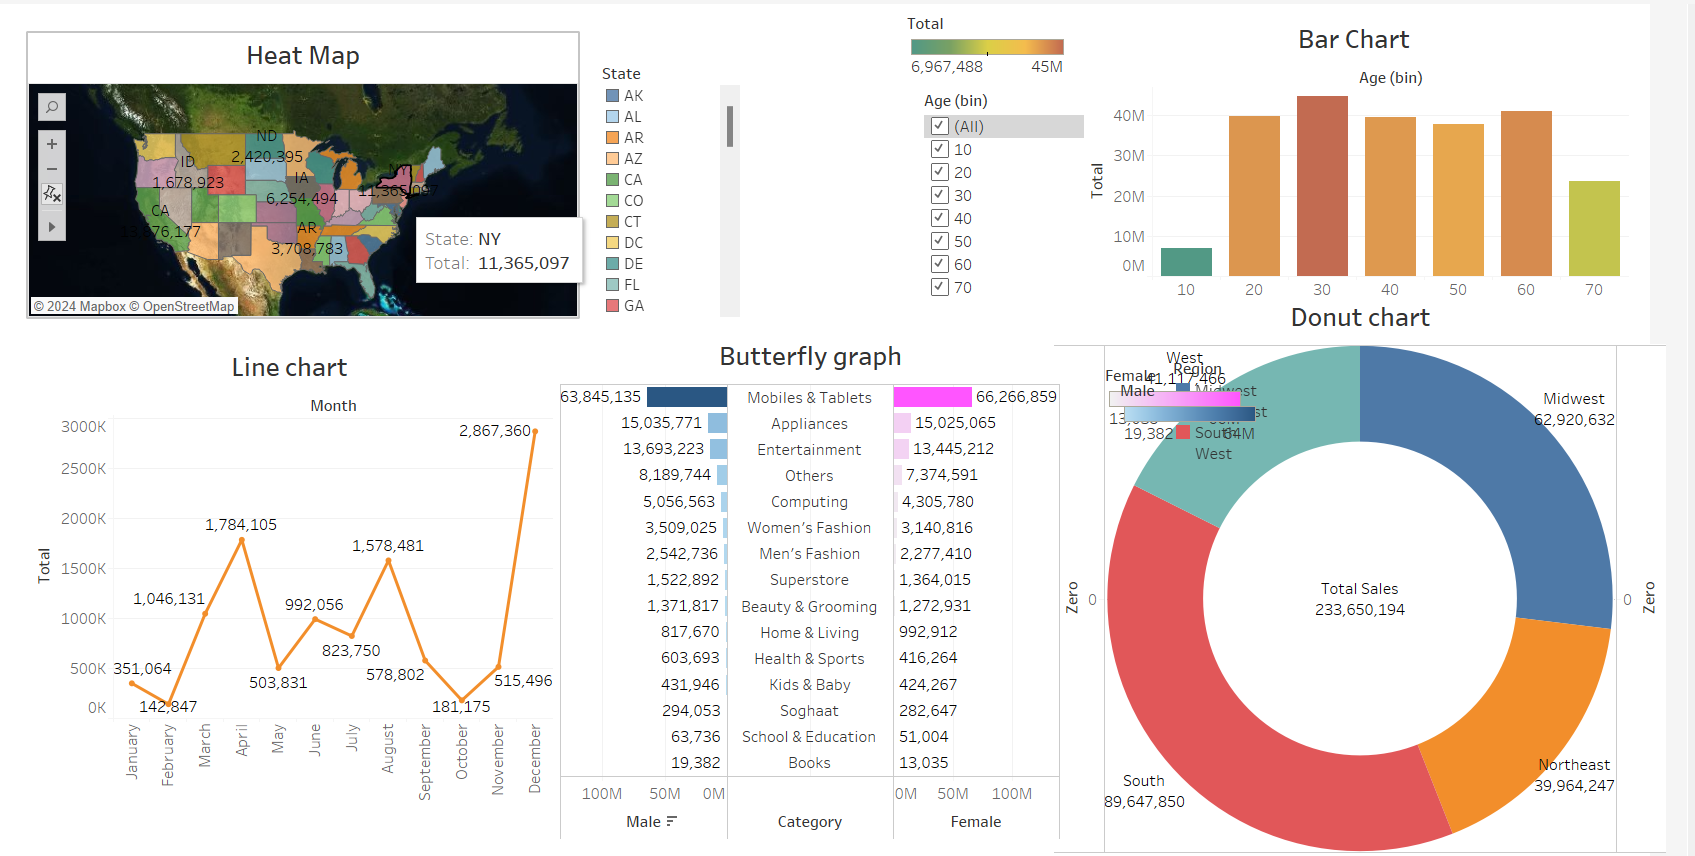

This screenshot's page, from the dashboard's own definition file:
{"tool":"tableau","page":{"name":"Dashboard 1","canvas":[1650,900],"ordinal":0},"visuals":[{"type":"legend","title":"Bar Chart","param":"[federated.1djcr7j0pqky3f16yyegm1i4nbtu].[sum:total:qk]","box":[907,9,161,88]},{"type":"worksheet","title":"Bar Chart","mark":"Automatic","rows":["total"],"cols":["Age (bin)"],"box":[1079,13,550,284]},{"type":"worksheet","title":"Heat Map","mark":"Multipolygon","box":[28,29,550,284]},{"type":"legend","title":"Heat Map","param":"[federated.1djcr7j0pqky3f16yyegm1i4nbtu].[none:State:nk]","box":[602,59,140,254]},{"type":"filter","title":"Bar Chart","param":"[federated.1djcr7j0pqky3f16yyegm1i4nbtu].[none:Age (bin):ok]","box":[924,86,160,212]},{"type":"worksheet","title":"Butterfly graph","mark":"Automatic","rows":["category"],"cols":["Calculation_783626354575286273","Calculation_783626354574594048","Calculation_783626354575568898"],"box":[560,330,501,507]},{"type":"worksheet","title":"Line chart","mark":"Line","rows":["total"],"cols":["month"],"box":[26,341,527,473]},{"type":"legend","title":"Donut chart","param":"[federated.1djcr7j0pqky3f16yyegm1i4nbtu].[none:Region:nk]","box":[1173,354,140,106]},{"type":"legend","title":"Butterfly graph","param":"[federated.1djcr7j0pqky3f16yyegm1i4nbtu].[sum:Calculation_783626354575568898:qk]","box":[1105,361,140,88]},{"type":"legend","title":"Butterfly graph","param":"[federated.1djcr7j0pqky3f16yyegm1i4nbtu].[sum:Calculation_783626354575286273:qk]","box":[1120,376,140,88]}]}

Visuals, with their boxes on the page's 1650x900 design canvas (x1, y1, x2, y2). These are canvas units, not pixel positions in the 1695x856 screenshot, which may show the page scaled, cropped or inside an application window:
"Bar Chart" legend: (907, 9, 1068, 97)
"Bar Chart" worksheet: (1079, 13, 1629, 297)
"Heat Map" worksheet (Multipolygon marks): (28, 29, 578, 313)
"Heat Map" legend: (602, 59, 742, 313)
"Bar Chart" filter: (924, 86, 1084, 298)
"Butterfly graph" worksheet: (560, 330, 1061, 837)
"Line chart" worksheet (Line marks): (26, 341, 553, 814)
"Donut chart" legend: (1173, 354, 1313, 460)
"Butterfly graph" legend: (1105, 361, 1245, 449)
"Butterfly graph" legend: (1120, 376, 1260, 464)
